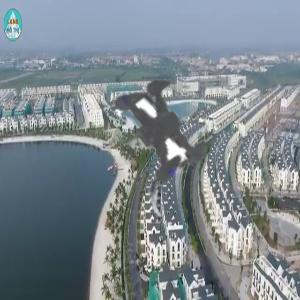drone: (37, 1, 284, 248)
